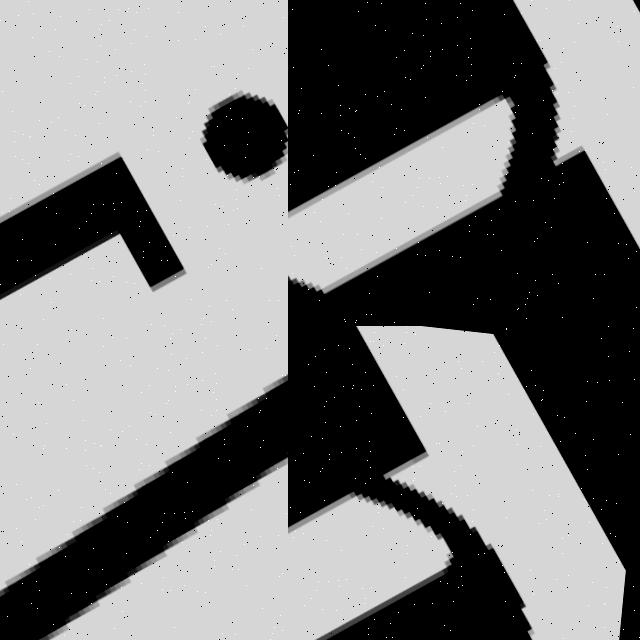I: (0, 0, 288, 326)
L: (0, 326, 288, 640)
P: (288, 0, 640, 326)
Q: (288, 326, 640, 640)
